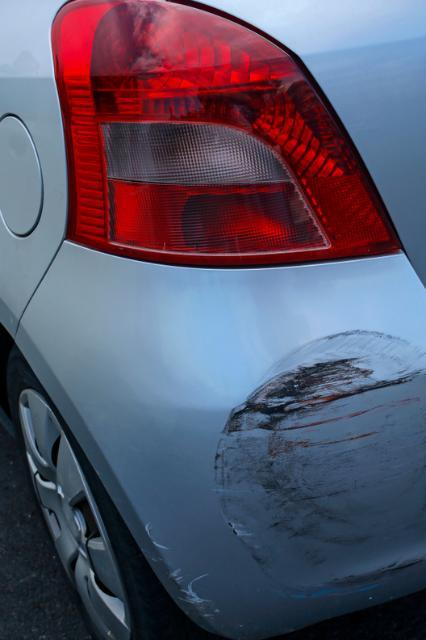Bumper: (128, 283, 426, 578)
